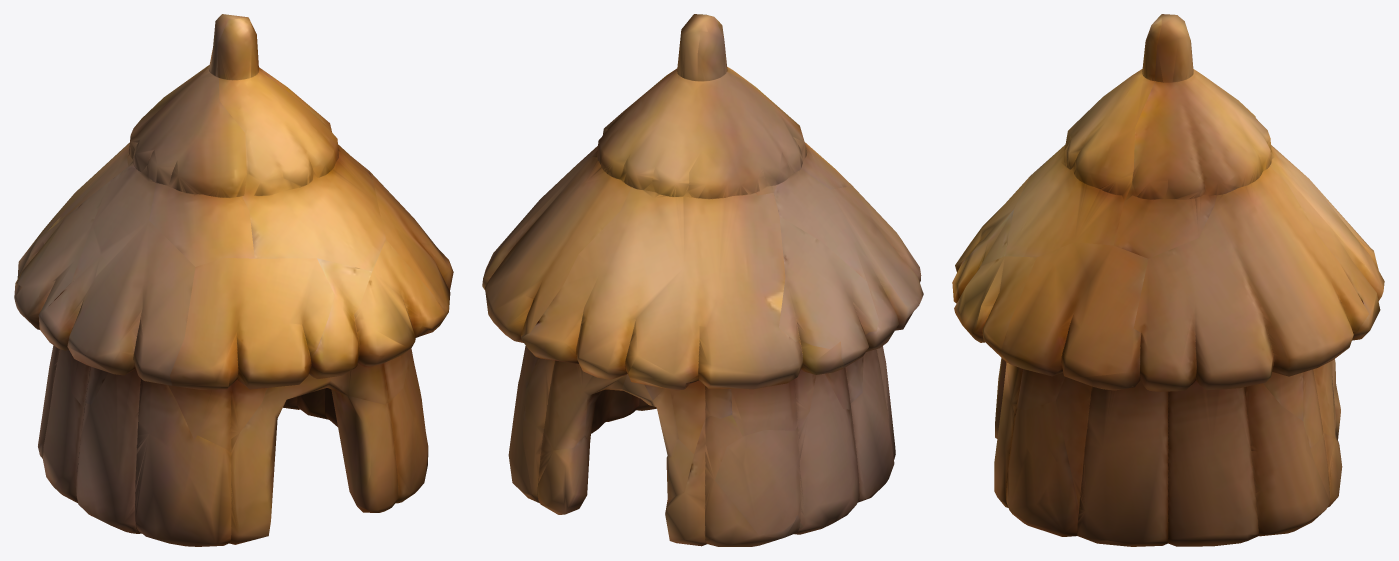
File: hut_pbr.glb
The picture shows the model from 3 angles, left to right: view 1: azimuth 30°, elevation 25°; view 2: azimuth 150°, elevation 25°; view 3: azimuth 270°, elevation 25°; orthographic projection.
Visible parts, largest first — view 1: model.009; view 2: model.009; view 3: model.009.
Boxes of the visible parts, box(x1,y1,x2,y2) form: model.009: box(14, 14, 453, 546); model.009: box(482, 14, 923, 546); model.009: box(952, 14, 1384, 546).
Bounding box in the file's own units: 1.23 × 1.43 × 1.23.
1 material, 1 textured.
